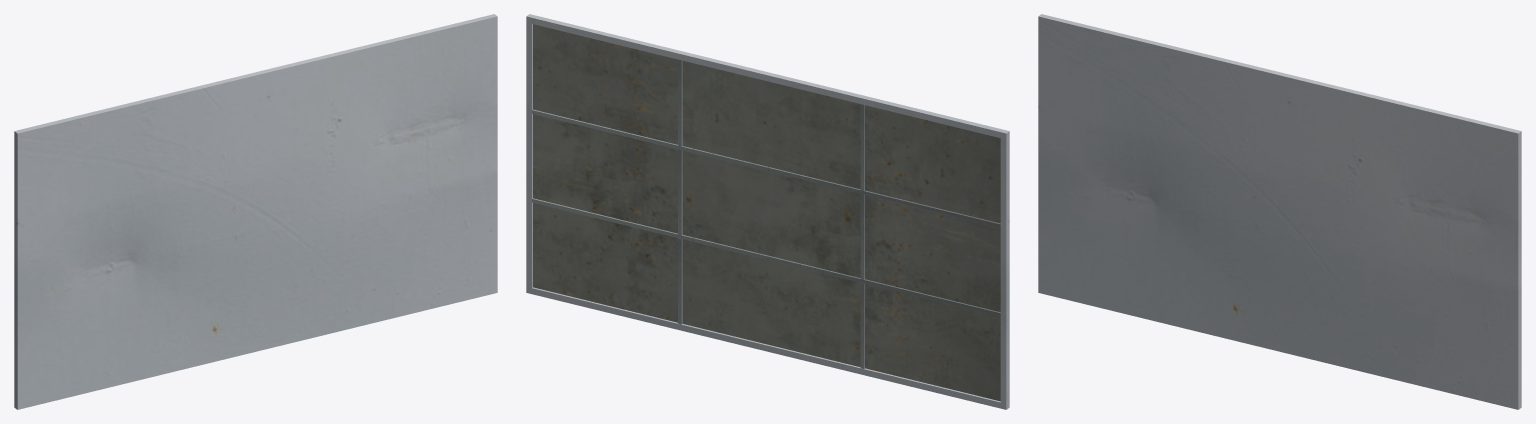
The model's file is signboardblank1c.fbx.
3 renders of one model, left to right at view 1: azimuth 30°, elevation 25°; view 2: azimuth 150°, elevation 25°; view 3: azimuth 330°, elevation 25°, orthographic.
Parts seen in each view (by area): view 1: signboardblank1c; view 2: signboardblank1c; view 3: signboardblank1c.
Boxes of the visible parts, box(x1,y1,x2,y2) form: signboardblank1c: box(14, 14, 497, 409); signboardblank1c: box(526, 14, 1009, 409); signboardblank1c: box(1038, 14, 1521, 409).
Bounding box in the file's own units: 235 × 129 × 2.82.
